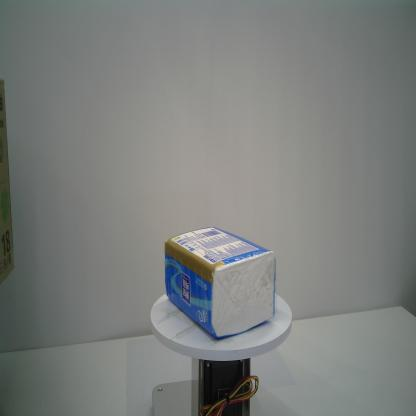Tissue: (164, 225, 277, 340)
